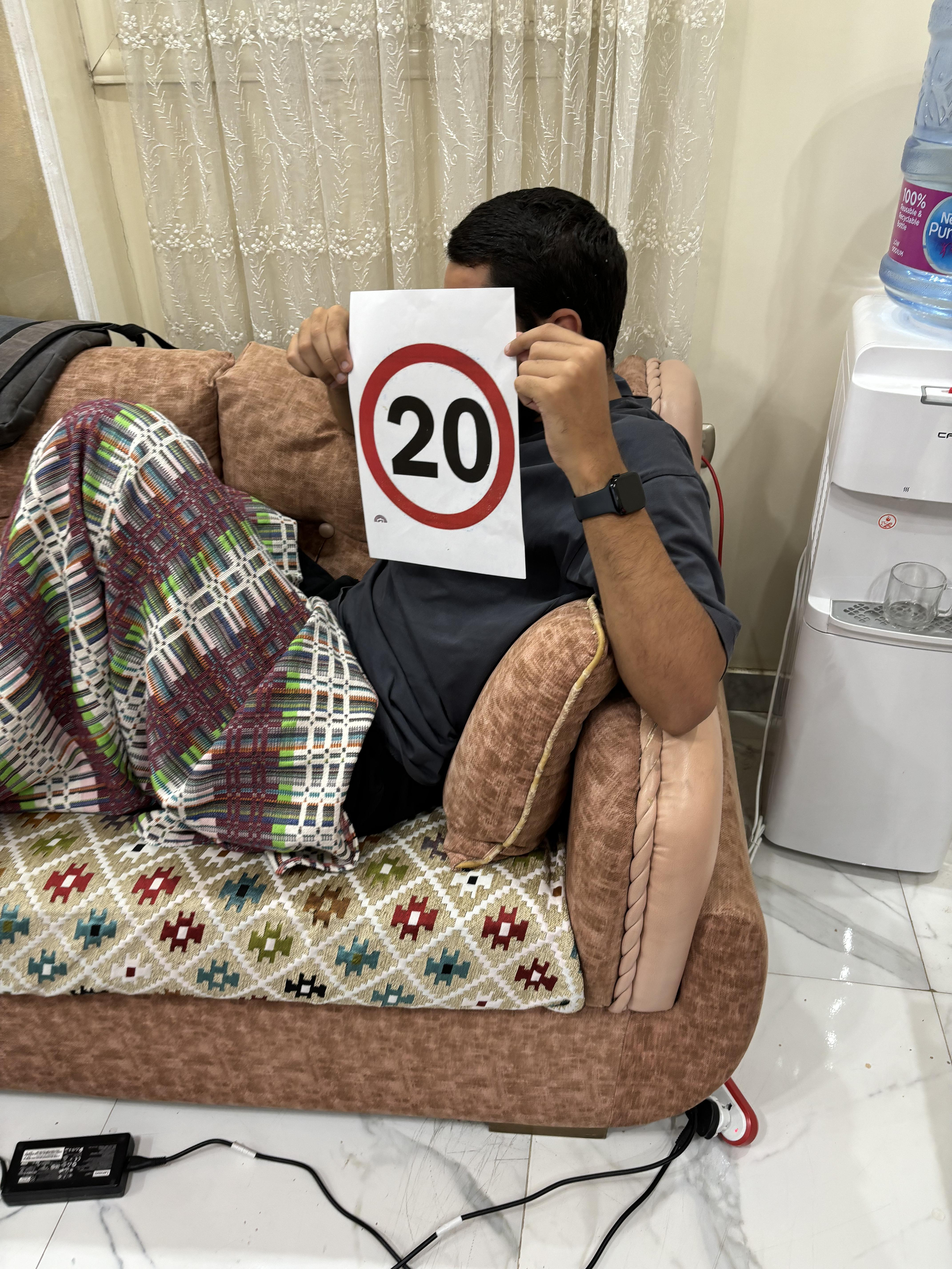20-Speed: (358, 338, 523, 534)
